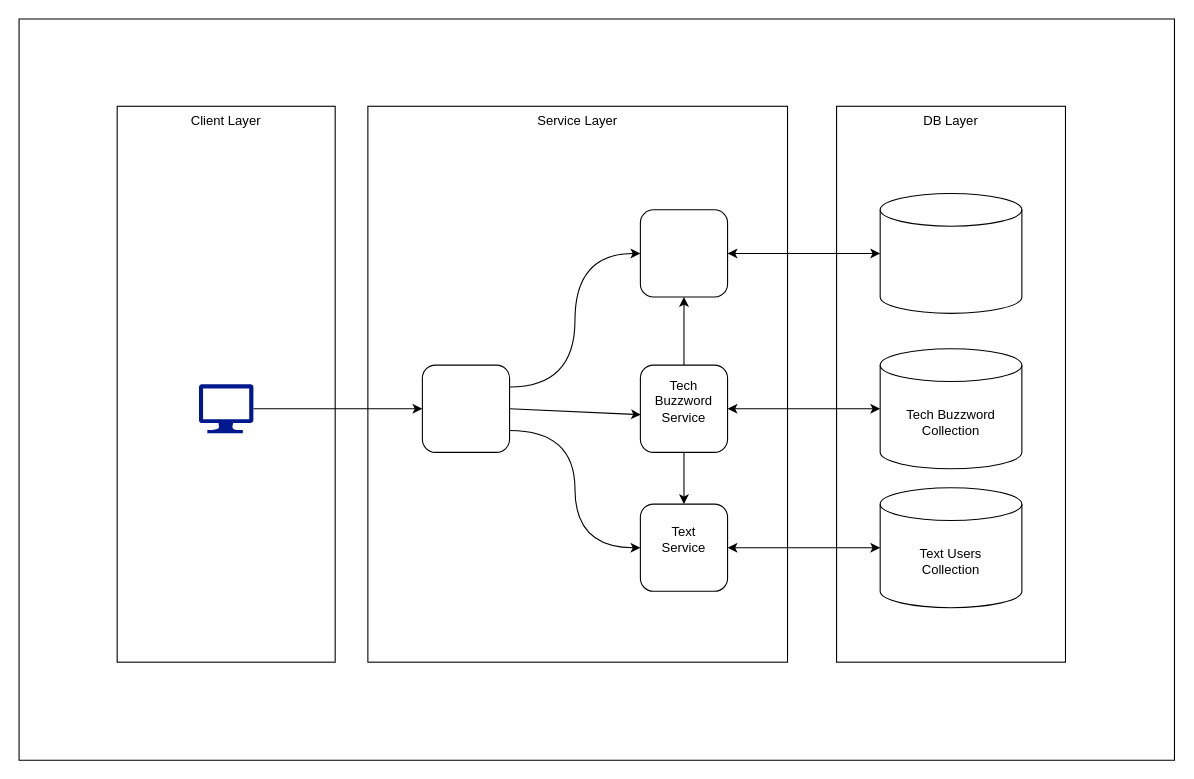
Image size: 1194x779. Some labels were removed from this diagram. The centre of each missing label's shape, as x and y in pixels:
"Email Service" belongs at (x=683, y=253).
"Email Users Collection" belongs at (x=950, y=252).
"ReactJS UI Web App" belongs at (x=225, y=408).
"Service Layer Load Balancer" belongs at (x=465, y=408).
